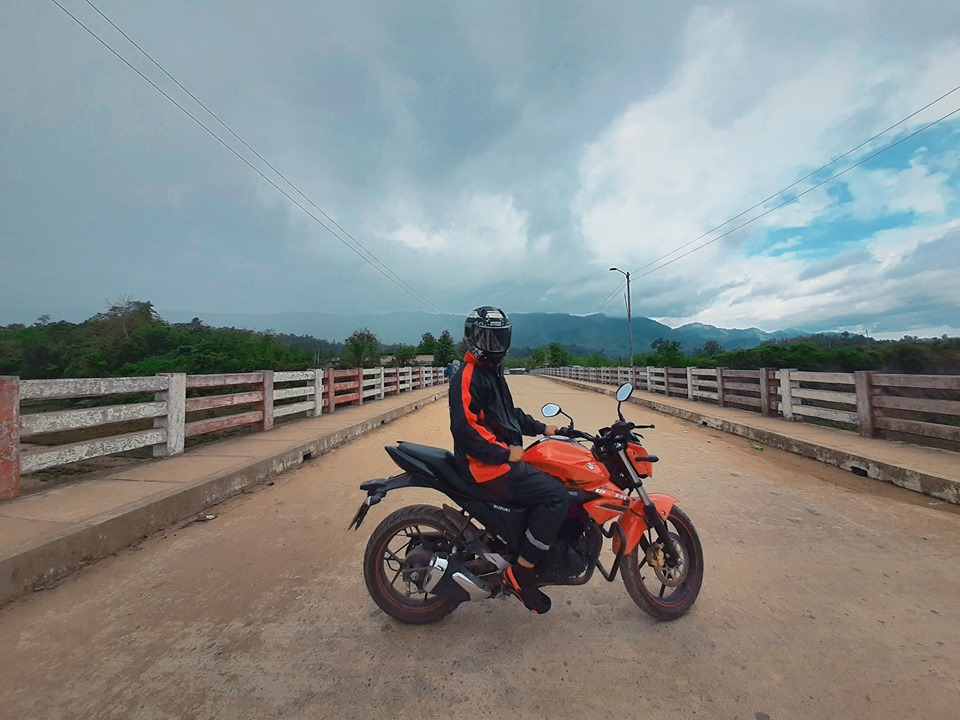bike: (350, 381, 706, 625)
